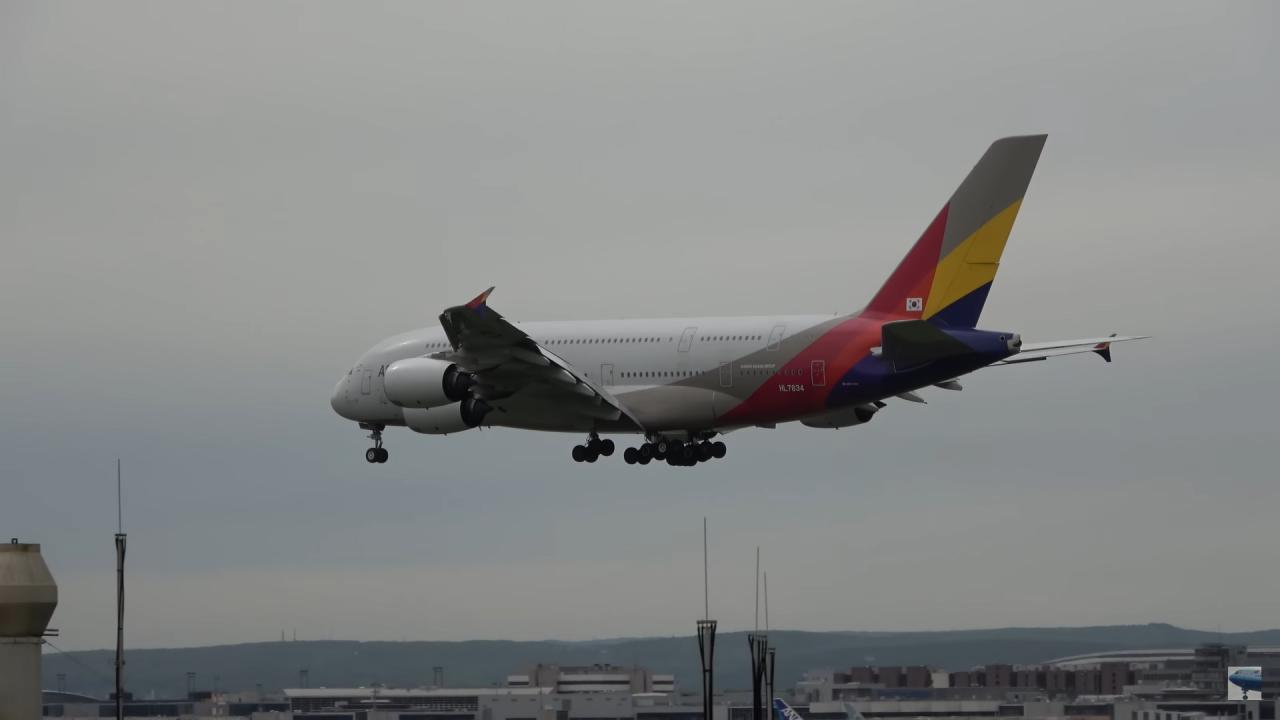Airplane: (312, 123, 1153, 483)
